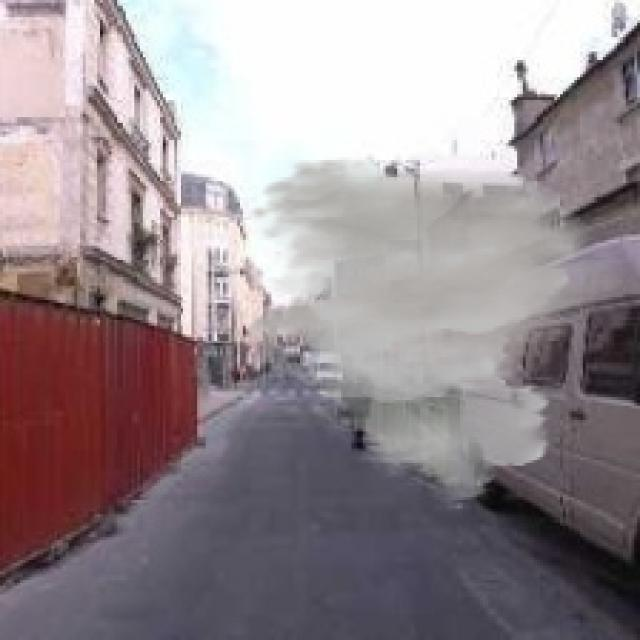Smoke: (242, 157, 634, 512)
